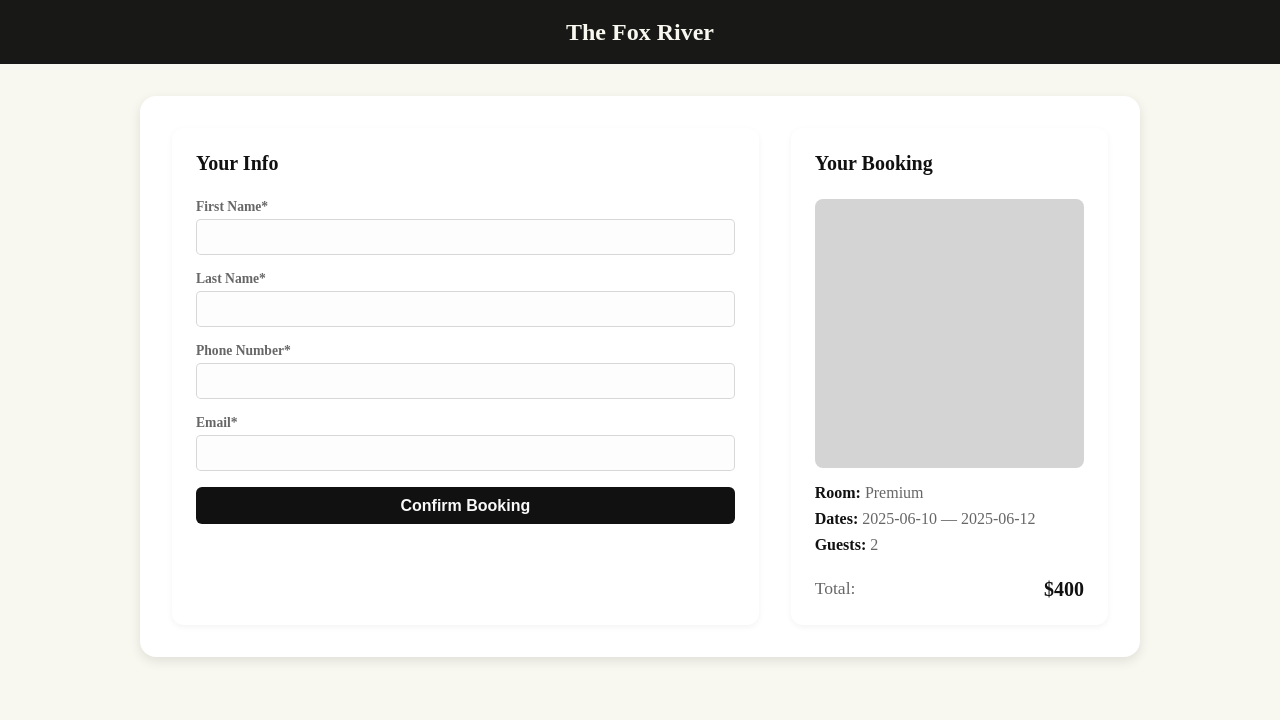
Test: SubmitBooking.vue › shows error message if booking fails
Step 1. Type "Fail" into the field below "First Name*" → (465, 237), box [196,219,735,255]
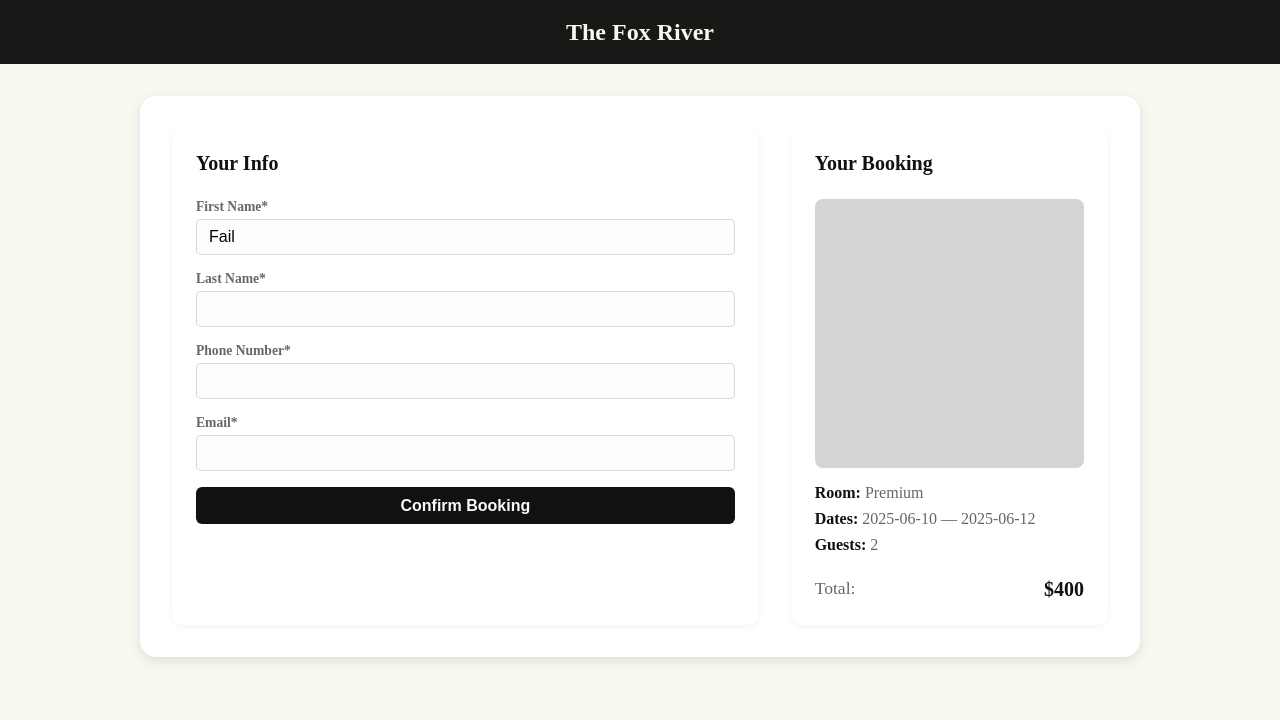
Step 2. Submit the form, box [196,152,735,524]
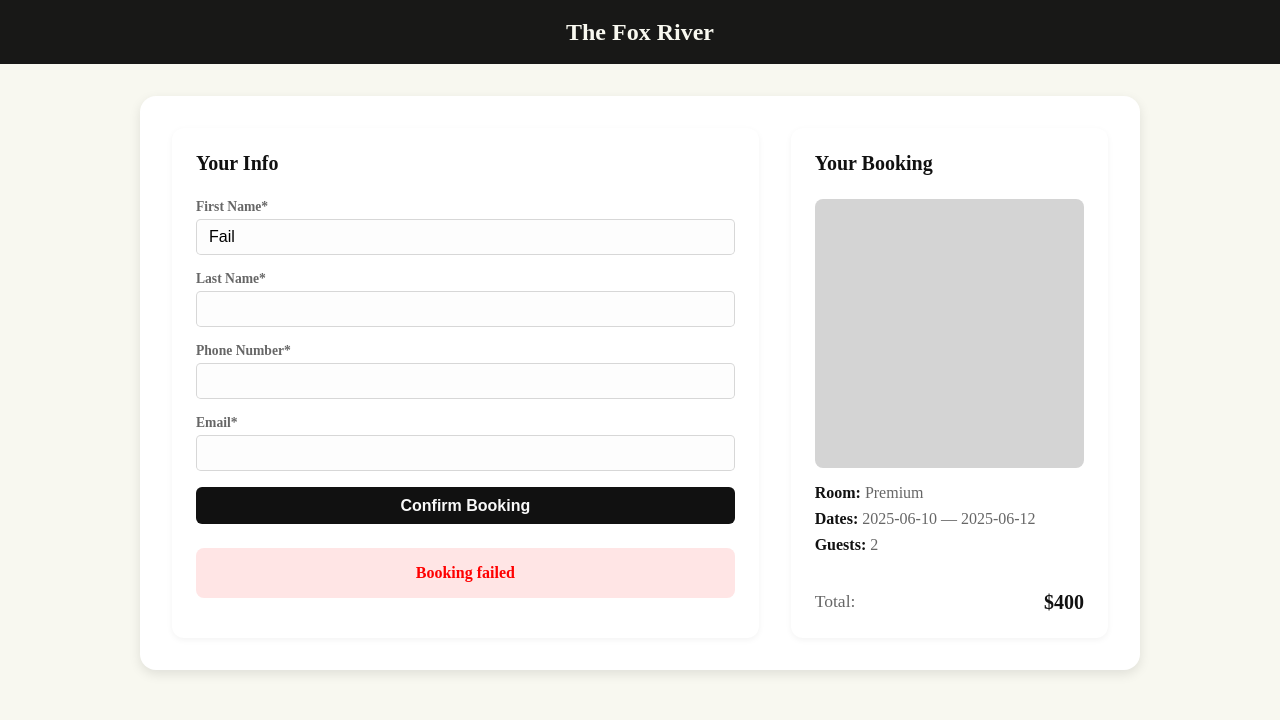
Now the text with class "error" reads "Booking failed", box [416,564,515,581]
